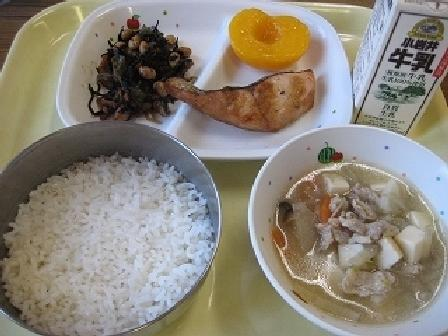Fish: (168, 63, 325, 139)
Milk: (331, 7, 447, 133)
Rice: (0, 129, 225, 335)
Soups: (250, 131, 447, 335)
peach: (219, 4, 321, 77)
salad with sauce: (80, 11, 192, 122)
